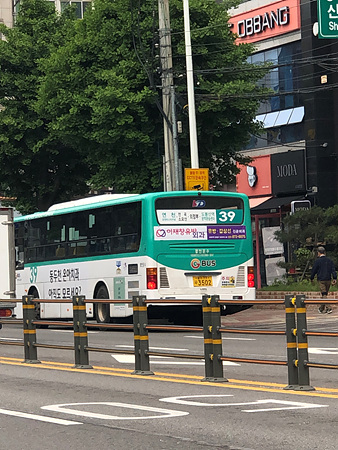bnum: (217, 208, 237, 223)
